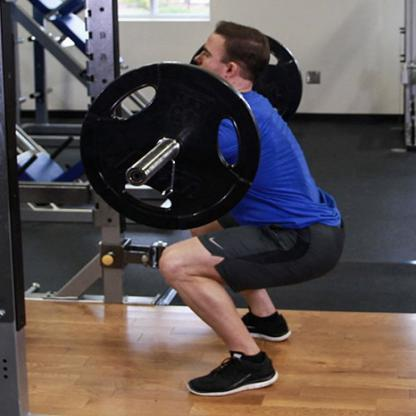barbell: (79, 32, 305, 233)
